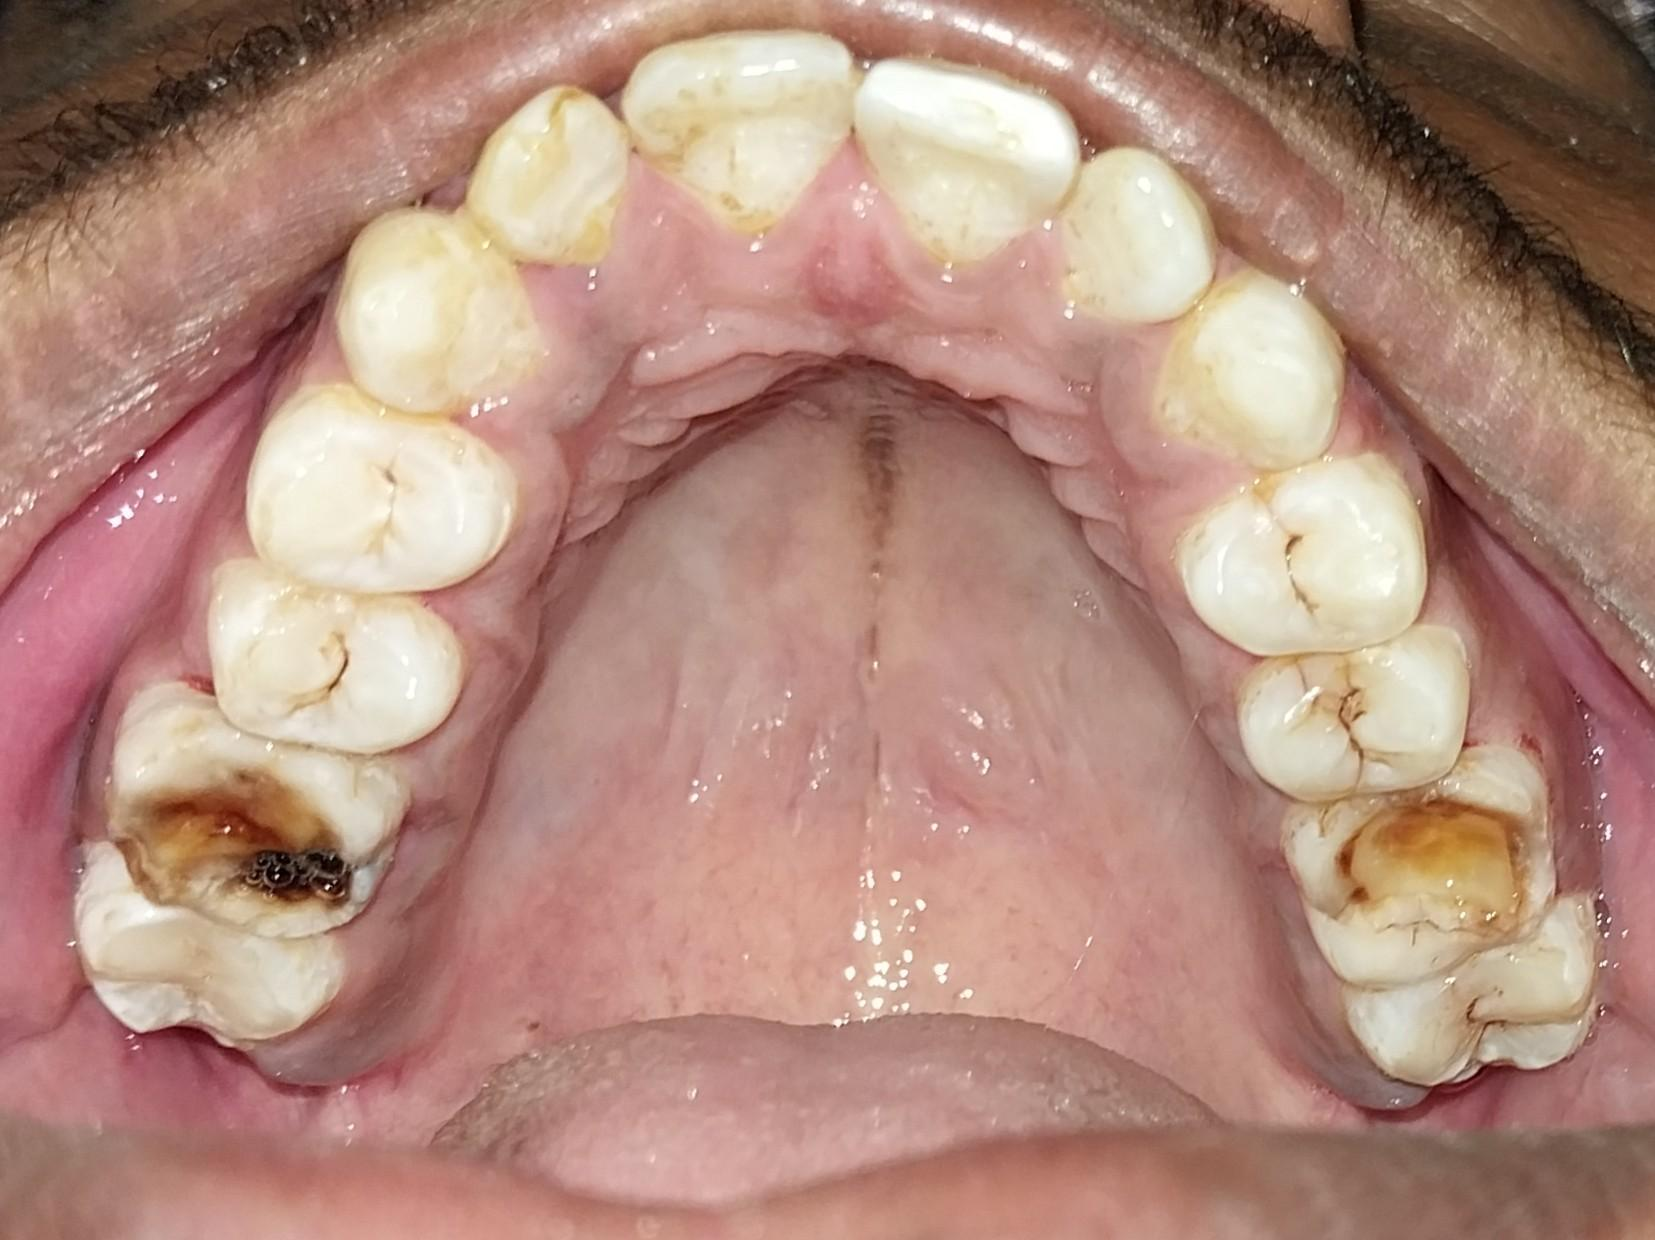D: (106, 686, 396, 932), (1292, 760, 1559, 973), (242, 400, 513, 587), (206, 563, 462, 752), (1181, 463, 1435, 653), (1244, 639, 1472, 797)
